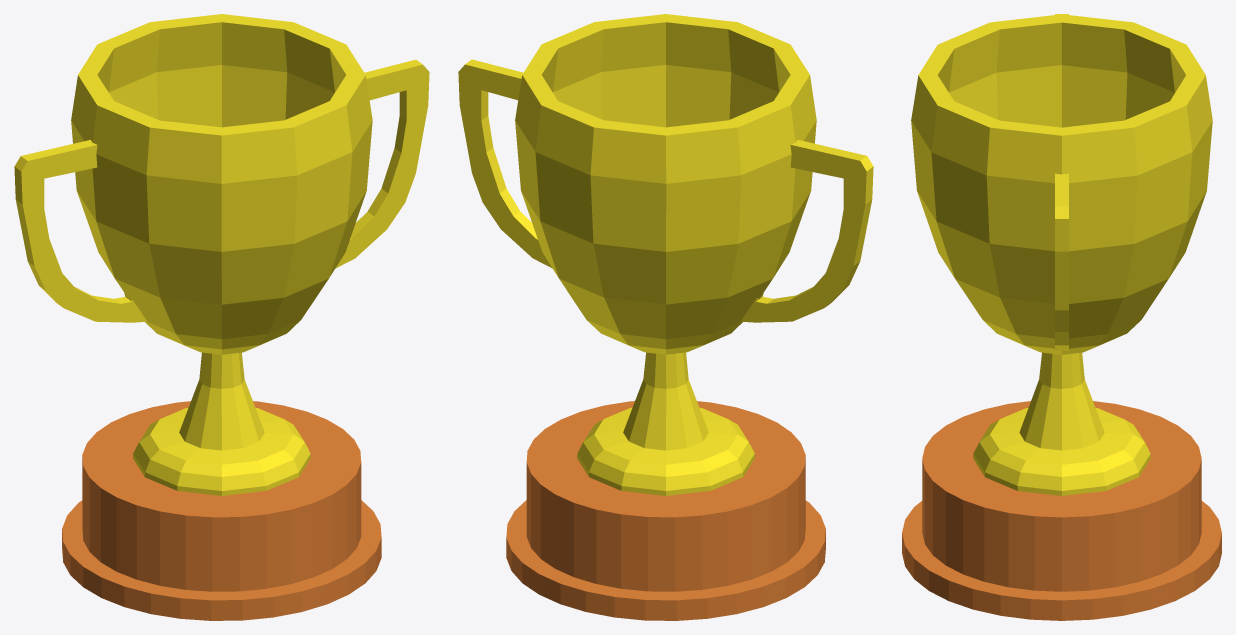
Rendered from low_poly_trophy.glb.
3 views of the same model, side by side, from view 1: azimuth 30°, elevation 25°; view 2: azimuth 150°, elevation 25°; view 3: azimuth 270°, elevation 25° (orthographic).
Visible parts, largest first — view 1: bottom_Material.001_0, bottom_Material.002_0; view 2: bottom_Material.001_0, bottom_Material.002_0; view 3: bottom_Material.001_0, bottom_Material.002_0.
Part boxes in pixels (x1=…): bottom_Material.001_0: x1=14, y1=14, x2=429, y2=495; bottom_Material.002_0: x1=62, y1=401, x2=381, y2=620; bottom_Material.001_0: x1=458, y1=14, x2=873, y2=495; bottom_Material.002_0: x1=506, y1=401, x2=825, y2=620; bottom_Material.001_0: x1=911, y1=14, x2=1212, y2=495; bottom_Material.002_0: x1=902, y1=401, x2=1221, y2=620.
Bounding box in the file's own units: 5.35 × 5.99 × 3.63.
